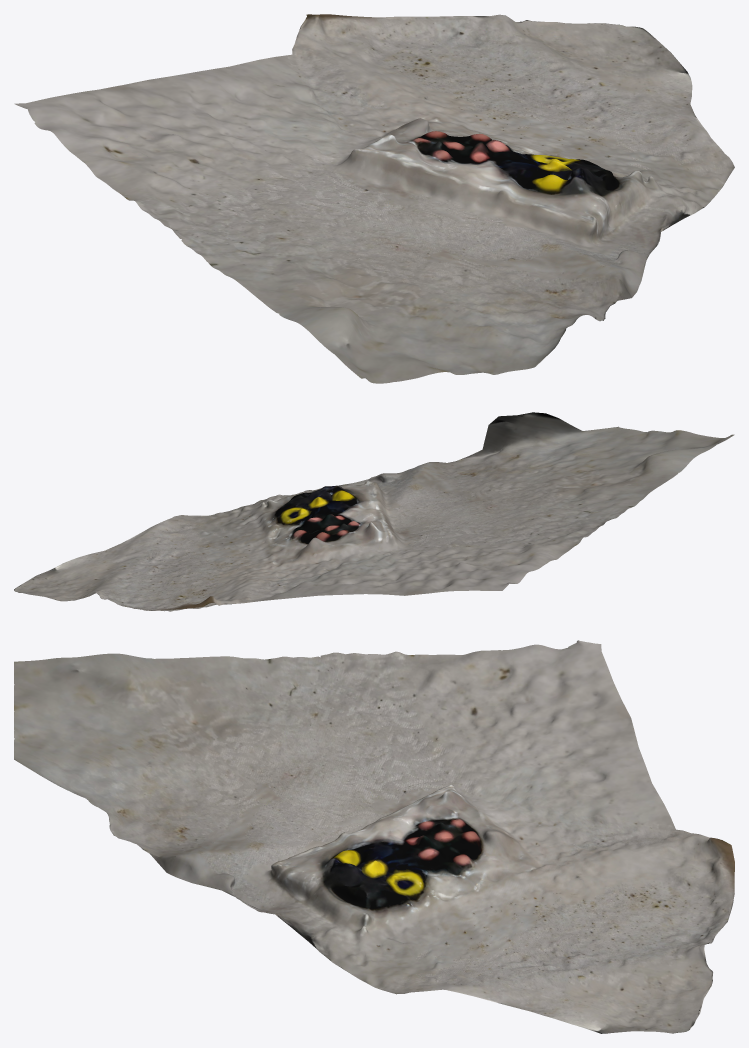
The picture shows the model from 3 angles, top to bottom: view 1: azimuth 30°, elevation 25°; view 2: azimuth 150°, elevation 25°; view 3: azimuth 270°, elevation 25°; orthographic projection. The views are drawn at different scales.
Size of the model in its own units: 1.97 by 0.3797 by 2.14.
Materials: 1 (1 with a texture image).
